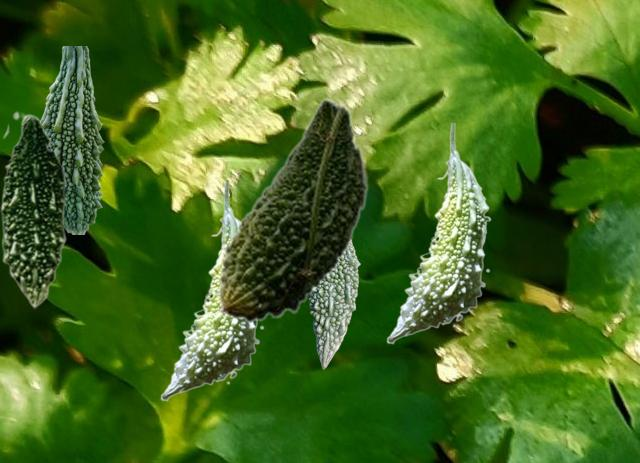ampalaya: (217, 98, 368, 322), (386, 123, 490, 343), (160, 180, 264, 400), (0, 111, 70, 308), (41, 46, 103, 233), (308, 241, 359, 368)
